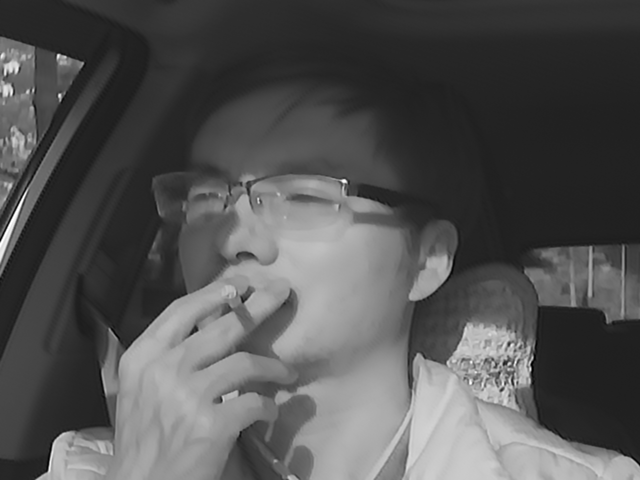hand: (106, 270, 297, 439)
